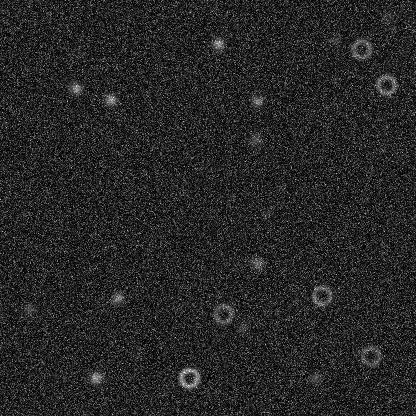Ring: (374, 72, 398, 96), (211, 301, 235, 325), (309, 283, 333, 307), (176, 365, 200, 389), (349, 36, 373, 60), (358, 344, 382, 368)
Spot: (247, 130, 263, 146), (20, 300, 36, 316), (68, 45, 84, 61), (307, 370, 323, 386), (67, 80, 83, 96), (379, 8, 395, 24), (234, 319, 250, 335), (249, 255, 265, 271), (129, 346, 145, 362), (210, 36, 226, 52), (102, 91, 118, 107), (87, 369, 103, 385), (326, 31, 342, 47), (249, 92, 265, 108), (109, 290, 125, 306), (258, 205, 274, 221)
